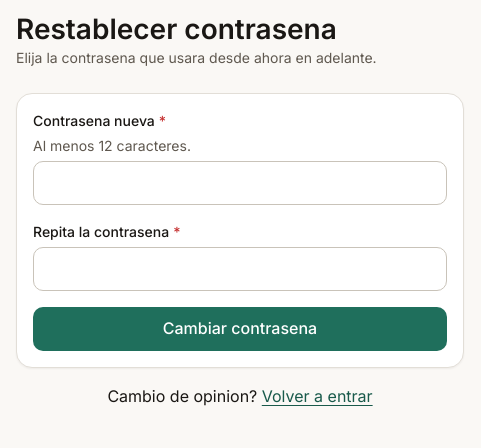
Test: validacion antes de viajar › unas contrasenas que no coinciden se anuncian y no se envia nada
Type "una contrasena larga y normal" into the password field labelled "Contrasena nueva*" at (240, 183), box [33, 161, 447, 205]
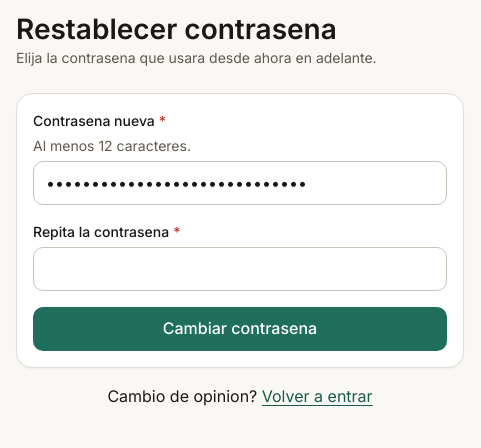
Type "otra distinta" into the password field labelled "Repita la contrasena*" at (240, 269), box [33, 247, 447, 291]
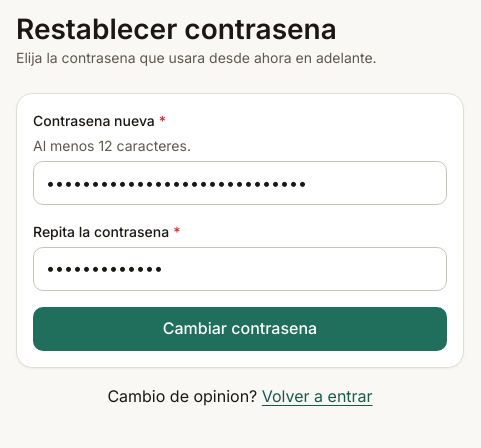
Click the button "Cambiar contrasena" at (240, 329), box [33, 307, 447, 351]
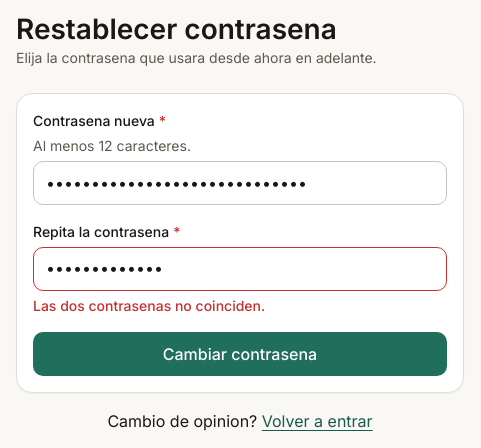
Check: the message shows "no coinciden", box [33, 297, 265, 314]
